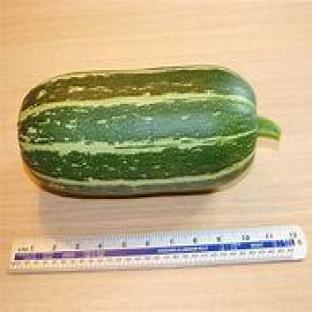Zucchini: (19, 67, 279, 195)
